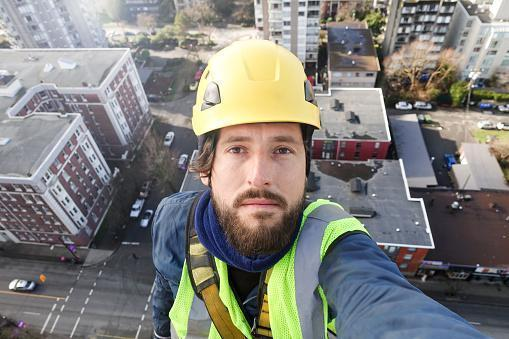helmet: (191, 39, 321, 134)
